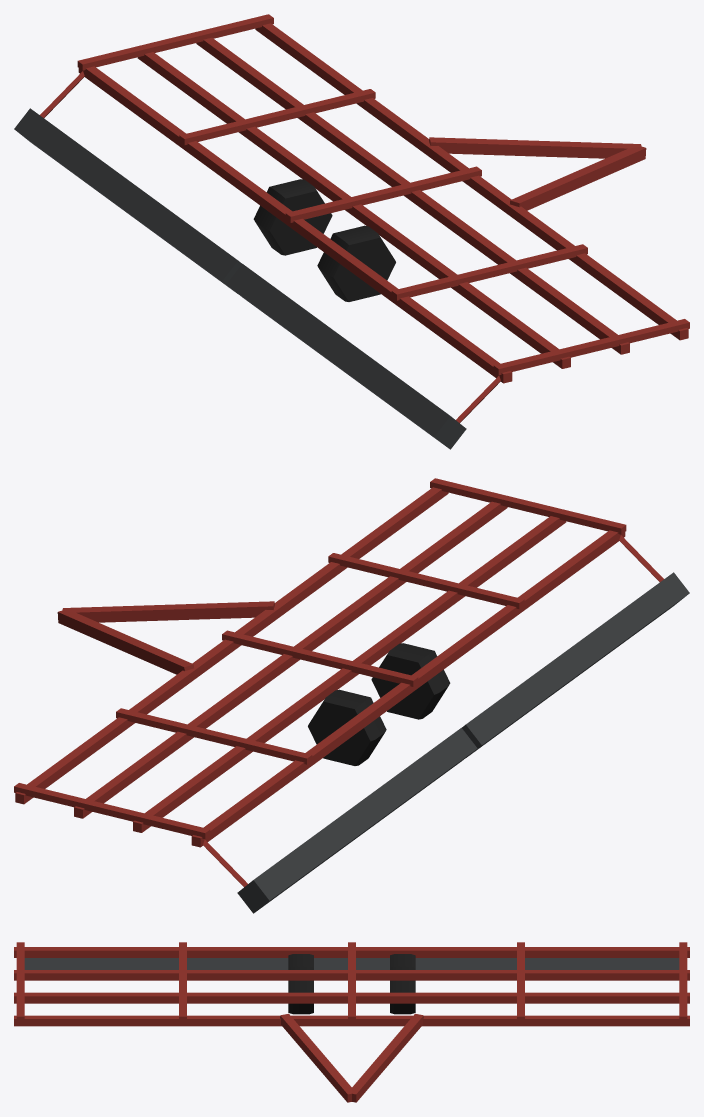
File: SM_Prop_farm_cultivator_0_LOD2.glb
3 views of the same model, one above another, from view 1: azimuth 30°, elevation 25°; view 2: azimuth 150°, elevation 25°; view 3: azimuth 270°, elevation 25° (orthographic). The views are drawn at different scales.
Visible parts, largest first — view 1: SM_Prop_farm_cultivator_0_LOD2; view 2: SM_Prop_farm_cultivator_0_LOD2; view 3: SM_Prop_farm_cultivator_0_LOD2.
Part boxes in pixels (x1,y1,x2,y2): SM_Prop_farm_cultivator_0_LOD2: (14,14,689,449); SM_Prop_farm_cultivator_0_LOD2: (14,478,689,913); SM_Prop_farm_cultivator_0_LOD2: (14,942,689,1102).
Bounding box in the file's own units: 5.7 × 0.9 × 10.
